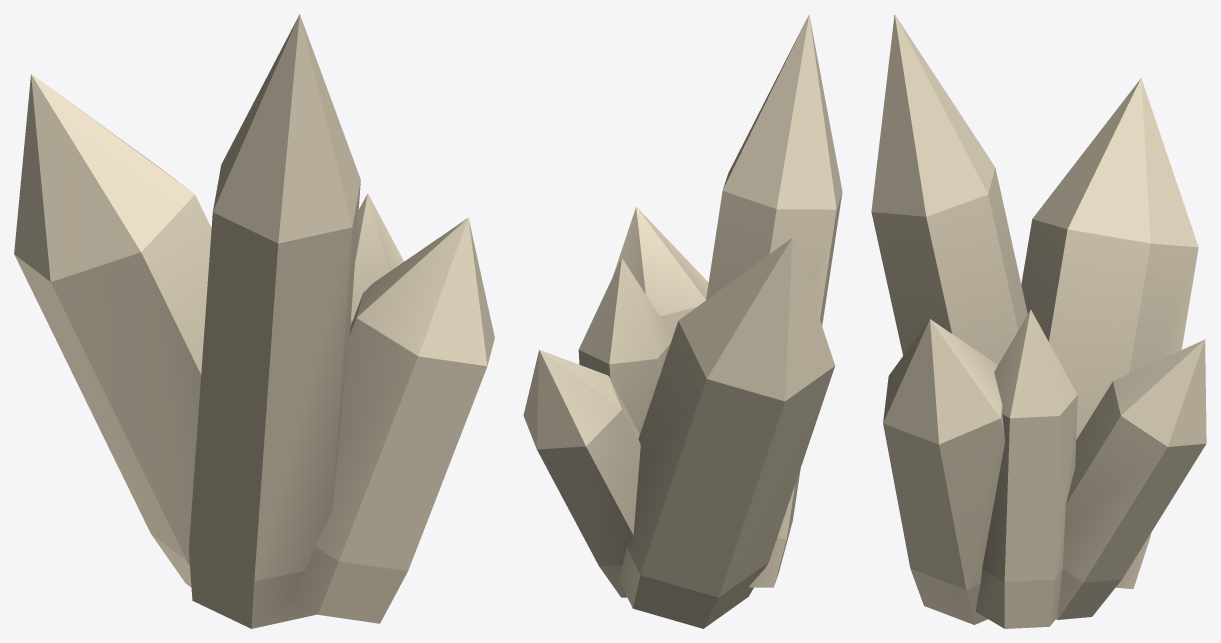
The model's file is crystal_small.glb.
The picture shows the model from 3 angles, left to right: view 1: azimuth 30°, elevation 25°; view 2: azimuth 150°, elevation 25°; view 3: azimuth 270°, elevation 25°; orthographic projection. The views are drawn at different scales.
Parts seen in each view (by area): view 1: CrystalSmall; view 2: CrystalSmall; view 3: CrystalSmall.
Part boxes in pixels (box(x1,y1,x2,y2)): CrystalSmall: box(14, 14, 494, 628); CrystalSmall: box(523, 14, 842, 628); CrystalSmall: box(871, 14, 1206, 628).
Size of the model in its own units: 0.1286 by 0.2244 by 0.1211.
